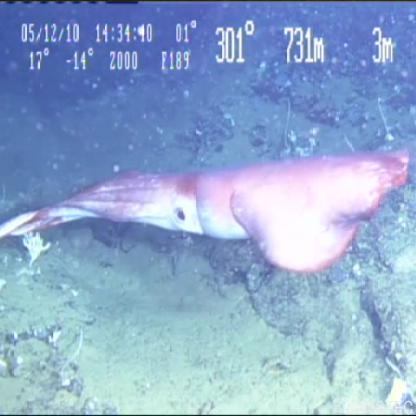Bio: (1, 143, 413, 280), (21, 228, 54, 271)
